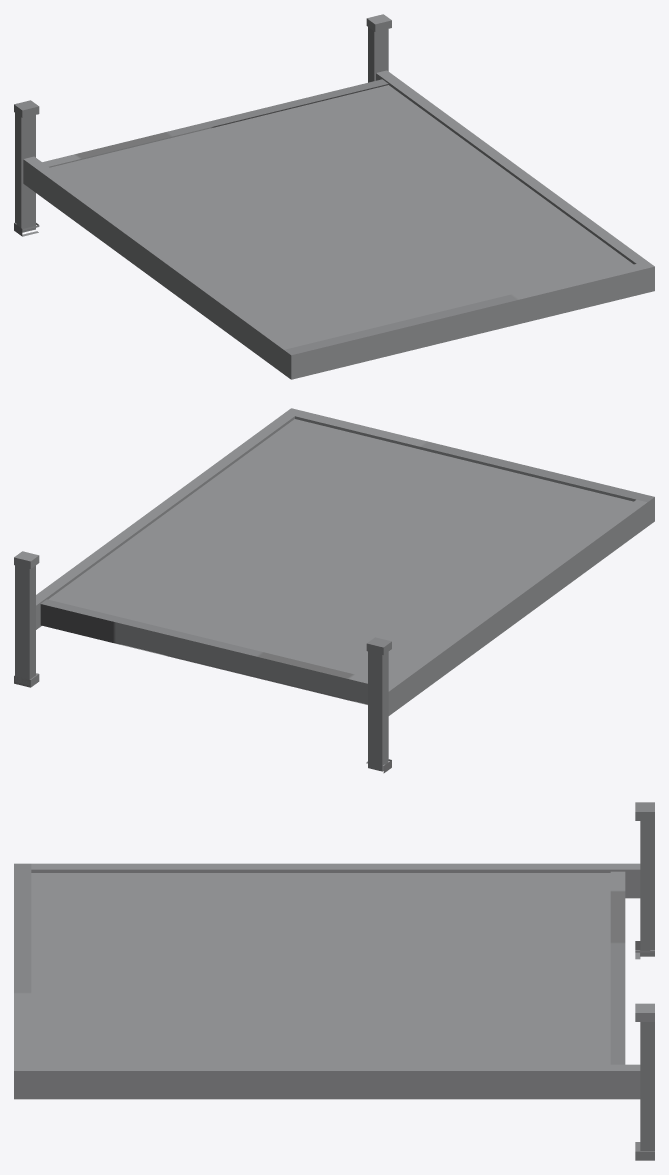
The picture shows the model from 3 angles, top to bottom: view 1: azimuth 30°, elevation 25°; view 2: azimuth 150°, elevation 25°; view 3: azimuth 270°, elevation 25°; orthographic projection. The views are drawn at different scales.
Bounding box in the file's own units: 1.01 × 0.33 × 1.3.
